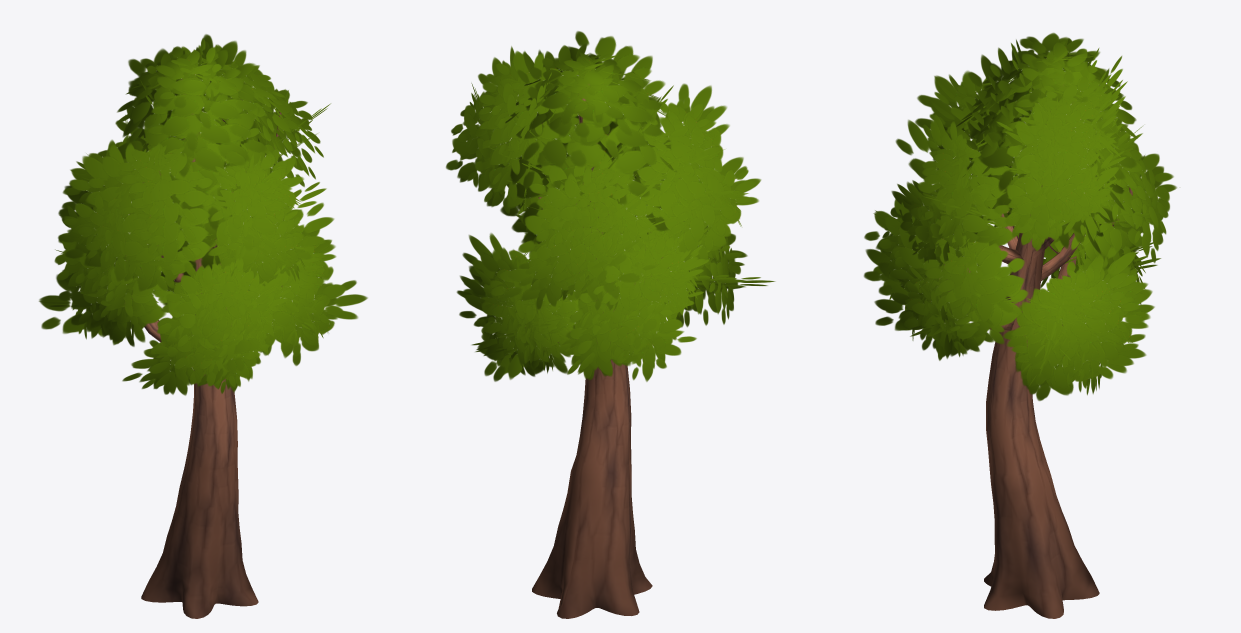
Rendered from tree.glb.
The picture shows the model from 3 angles, left to right: view 1: azimuth 30°, elevation 25°; view 2: azimuth 150°, elevation 25°; view 3: azimuth 270°, elevation 25°; orthographic projection. The views are drawn at different scales.
Parts seen in each view (by area): view 1: CommonTree_1; view 2: CommonTree_1; view 3: CommonTree_1.
Boxes of the visible parts, bbox=[...] form: CommonTree_1: bbox=[39, 34, 367, 618]; CommonTree_1: bbox=[446, 31, 775, 618]; CommonTree_1: bbox=[864, 33, 1176, 618].
Bounding box in the file's own units: 4.31 × 7.26 × 4.58.
2 materials, 2 textured.
